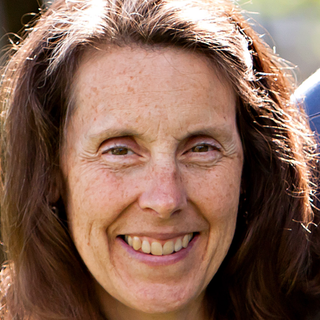eye: (179, 136, 225, 162), (96, 141, 144, 165)
